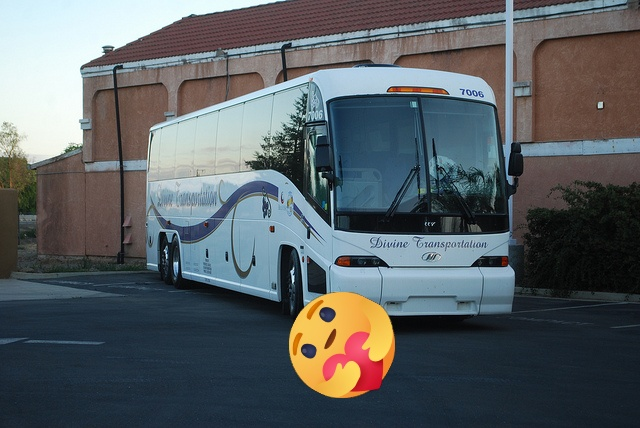care: (289, 292, 395, 398)
